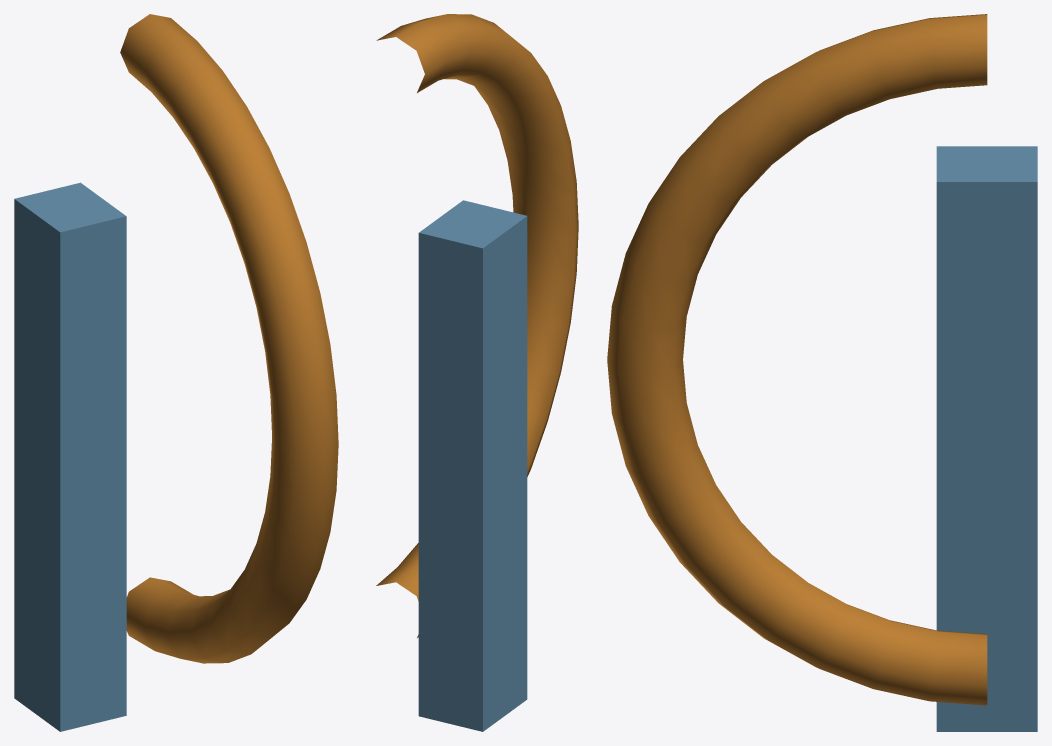
File: wpn_r_04.glb
3 renders of one model, left to right at view 1: azimuth 30°, elevation 25°; view 2: azimuth 150°, elevation 25°; view 3: azimuth 270°, elevation 25°, orthographic. The views are drawn at different scales.
Visible parts, largest first — view 1: bow_stock, bow_limb; view 2: bow_stock, bow_limb; view 3: bow_limb, bow_stock.
Boxes of the visible parts, x1,y1,x2,y2 form: bow_stock: (14,182,126,731); bow_limb: (120,14,338,663); bow_stock: (418,200,527,731); bow_limb: (376,14,578,637); bow_limb: (607,14,987,705); bow_stock: (936,146,1037,731).
Size of the model in its own units: 0.215 by 0.971 by 0.511.
